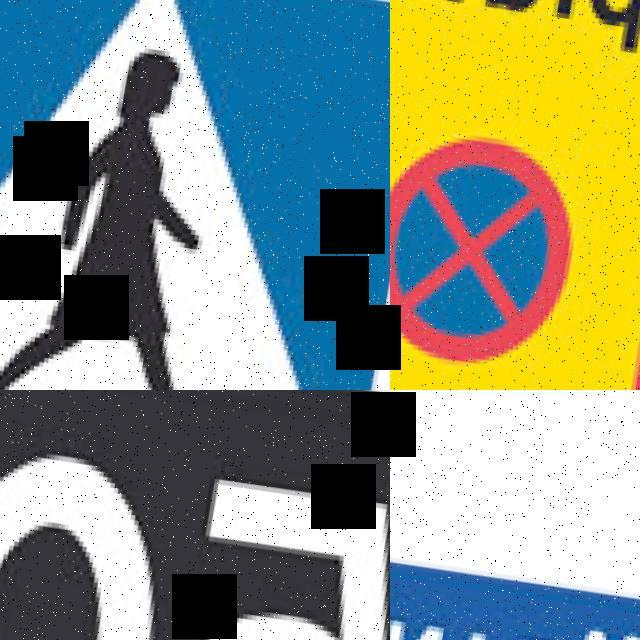100: (0, 390, 390, 640)
177: (390, 0, 640, 390)
88: (390, 536, 640, 640)
Pedestrian crossing: (0, 0, 390, 390)
